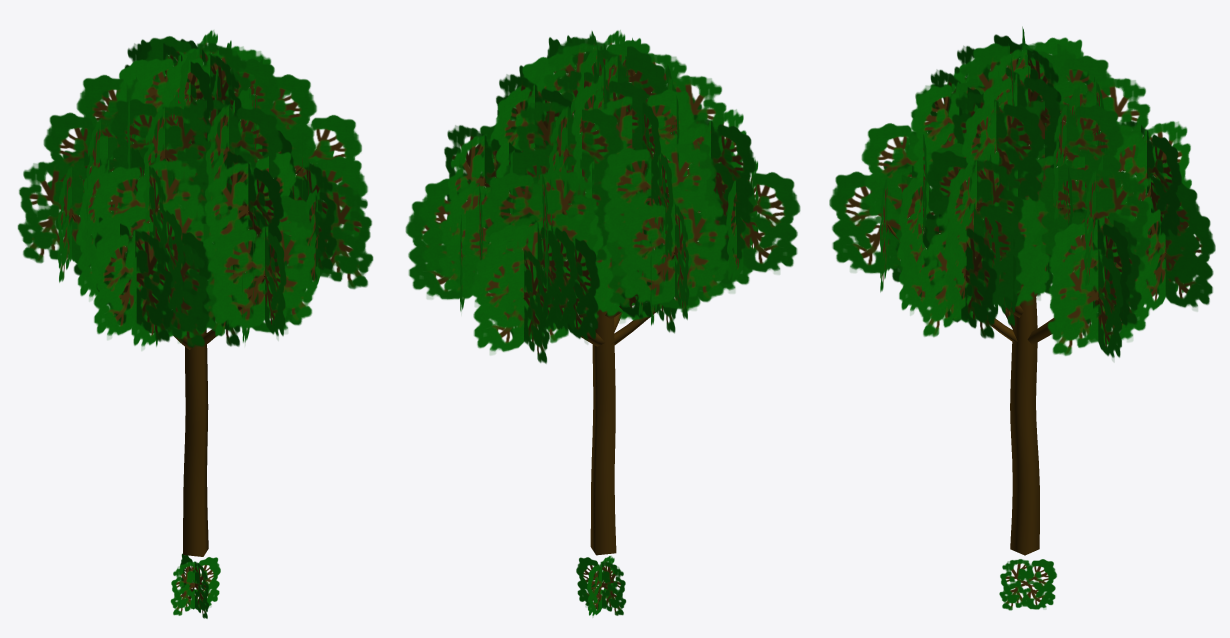
The model's file is tree_1.glb.
The picture shows the model from 3 angles, left to right: view 1: azimuth 30°, elevation 25°; view 2: azimuth 150°, elevation 25°; view 3: azimuth 270°, elevation 25°; orthographic projection.
Parts seen in each view (by area): view 1: GN Instance (×29), Tree, leaves; view 2: GN Instance (×31), Tree, leaves; view 3: GN Instance (×27), Tree, leaves.
Boxes of the visible parts, x1,y1,x2,y2 form: GN Instance (×29): [17, 30, 373, 349]; Tree: [72, 128, 301, 556]; leaves: [170, 553, 220, 618]; GN Instance (×31): [405, 30, 800, 363]; Tree: [481, 126, 743, 555]; leaves: [576, 556, 626, 616]; GN Instance (×27): [829, 26, 1215, 360]; Tree: [887, 125, 1166, 555]; leaves: [999, 559, 1056, 610].
Size of the model in its own units: 5.78 by 10.57 by 6.5.
Materials: 2 (1 with a texture image).
